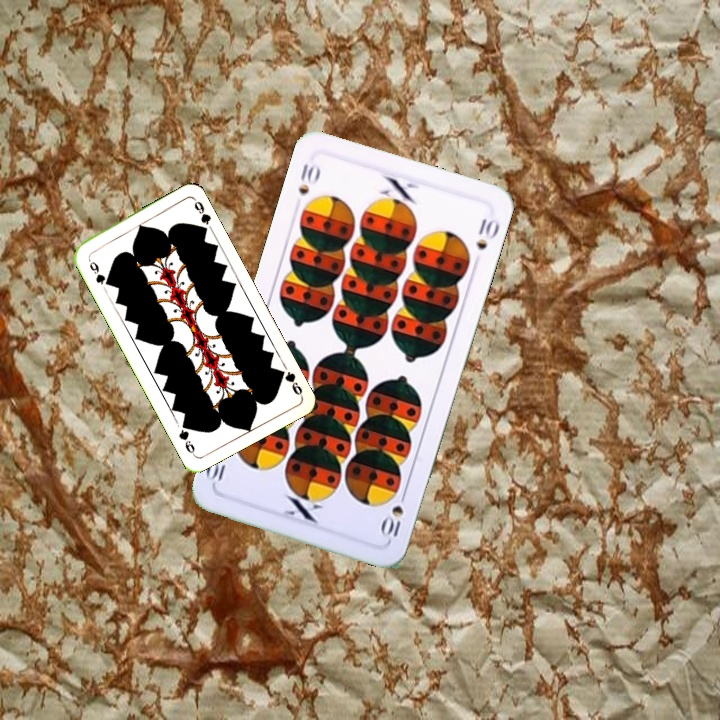G9: (274, 365, 305, 399), (84, 253, 112, 288)
S10: (378, 486, 410, 540), (294, 159, 323, 197)
